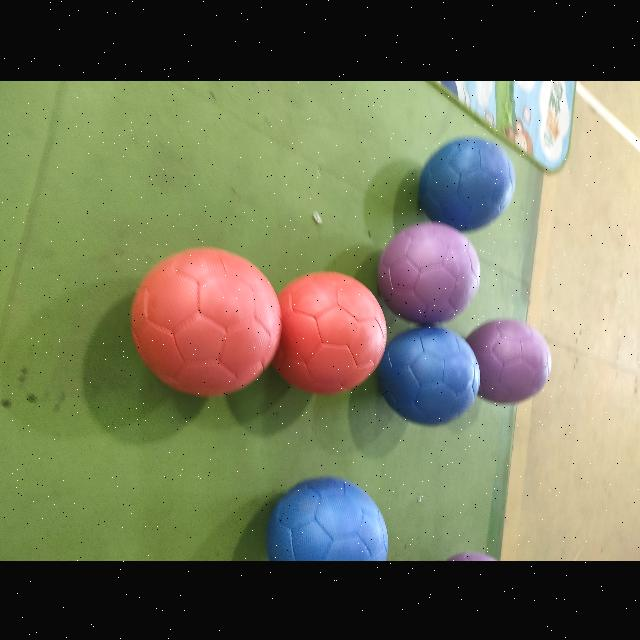B: (266, 476, 388, 560), (378, 326, 480, 424), (420, 136, 514, 230)
P: (378, 221, 480, 323), (468, 319, 550, 403), (435, 552, 511, 560)
R: (132, 247, 282, 395), (273, 271, 387, 393)
